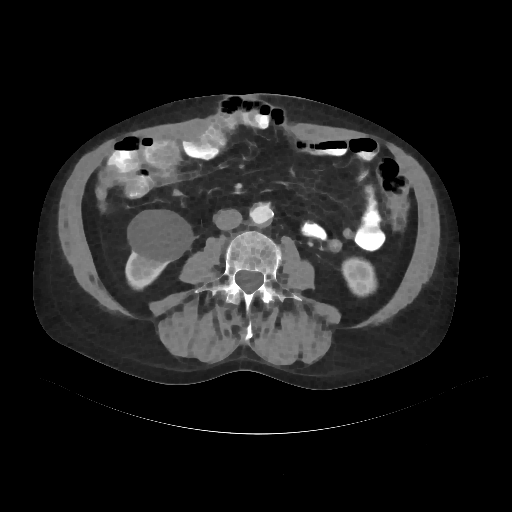Lesion: (123, 211, 194, 263)
